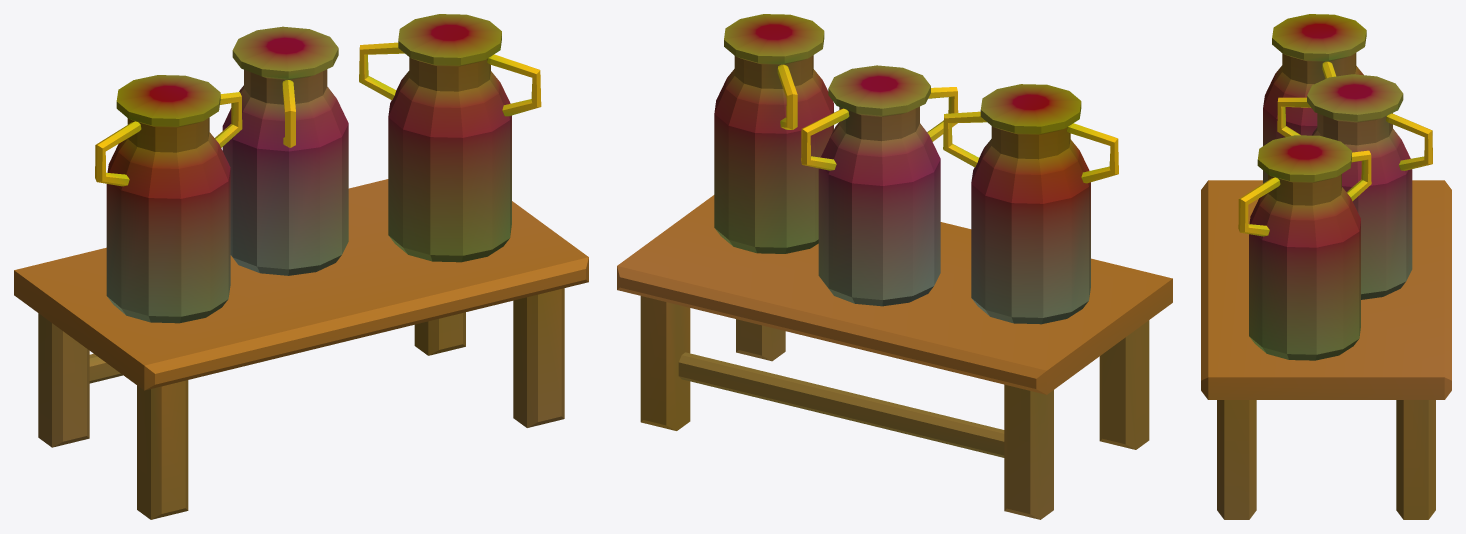
File: Farm_MilkStand.fbx
3 views of the same model, side by side, from view 1: azimuth 30°, elevation 25°; view 2: azimuth 150°, elevation 25°; view 3: azimuth 270°, elevation 25° (orthographic). The views are drawn at different scales.
Parts seen in each view (by area): view 1: Farm_MilkStand; view 2: Farm_MilkStand; view 3: Farm_MilkStand.
Boxes of the visible parts, box(x1,y1,x2,y2) form: Farm_MilkStand: box(14, 14, 588, 519); Farm_MilkStand: box(617, 14, 1172, 519); Farm_MilkStand: box(1201, 14, 1451, 519).
Size of the model in its own units: 1.3 by 1.04 by 0.7.
